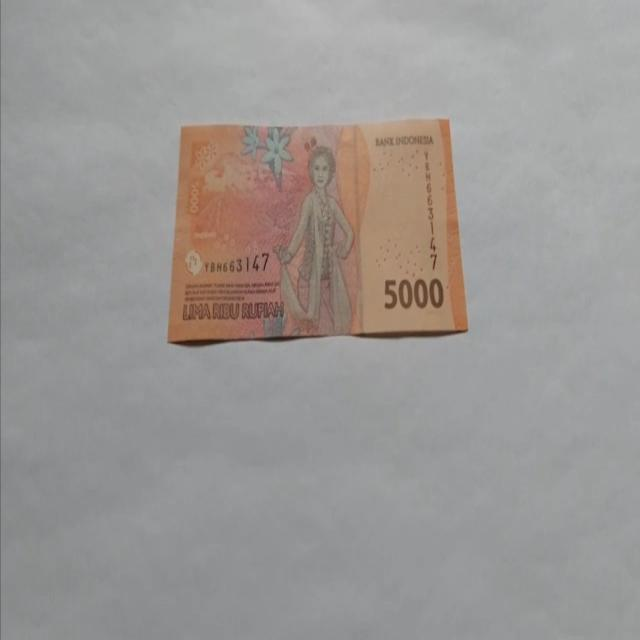lima ribu rupiah: (166, 116, 468, 345), (272, 143, 356, 336)
